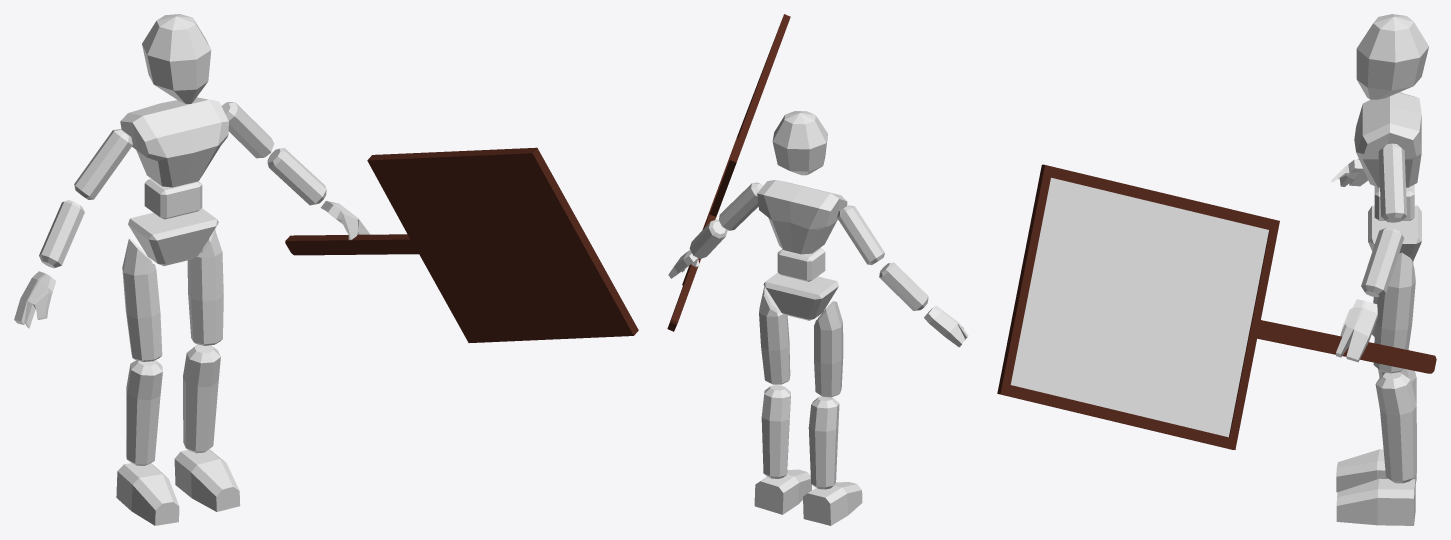
The model's file is sa transparentom (1).fbx.
The picture shows the model from 3 angles, left to right: view 1: azimuth 30°, elevation 25°; view 2: azimuth 150°, elevation 25°; view 3: azimuth 270°, elevation 25°; orthographic projection. The views are drawn at different scales.
Parts seen in each view (by area): view 1: Cube.012, Cube.020, Sphere.006, Cylinder.018, Cylinder.023, Cylinder.022, Cube.022, Cylinder.019, Cube.026, Cube.023, Cylinder.016, Cube.021 (+5 smaller); view 2: Cube.020, Sphere.006, Cube.012, Cylinder.019, Cylinder.018, Cylinder.023, Cube.022, Cylinder.022, Cube.023, Cube.026, Cylinder.016, Cube.021 (+5 smaller); view 3: Cube.012, Sphere.006, Cube.020, Cylinder.023, Cube.026, Cylinder.022, Cylinder.020, Cylinder.021, Cube.024, Cube.023, Cube.022, Cube.025 (+1 smaller).
Part boxes in pixels (box(x1,y1,x2,y2)): Cube.012: box(285, 147, 638, 342); Cube.020: box(120, 97, 228, 187); Sphere.006: box(142, 14, 211, 103); Cylinder.018: box(122, 238, 162, 361); Cylinder.023: box(183, 344, 220, 453); Cylinder.022: box(187, 229, 223, 345); Cube.022: box(128, 208, 218, 265); Cylinder.019: box(126, 360, 162, 465); Cube.026: box(174, 449, 240, 511); Cube.023: box(116, 463, 179, 525); Cylinder.016: box(74, 129, 132, 199); Cube.021: box(144, 178, 202, 219); Cube.020: box(757, 180, 847, 254); Sphere.006: box(772, 111, 827, 175); Cube.012: box(667, 14, 790, 331); Cylinder.019: box(808, 396, 839, 489); Cylinder.018: box(814, 301, 843, 397); Cylinder.023: box(761, 385, 790, 478); Cube.022: box(763, 272, 838, 320); Cylinder.022: box(759, 286, 790, 384); Cube.023: box(803, 482, 862, 525); Cube.026: box(754, 469, 811, 514); Cylinder.016: box(837, 205, 884, 265); Cube.021: box(777, 248, 825, 281); Cube.012: box(997, 164, 1436, 449); Sphere.006: box(1356, 14, 1428, 99); Cube.020: box(1354, 92, 1421, 187); Cylinder.023: box(1375, 372, 1416, 483); Cube.026: box(1336, 478, 1415, 525); Cylinder.022: box(1373, 252, 1415, 373); Cylinder.020: box(1378, 143, 1406, 222); Cylinder.021: box(1361, 227, 1404, 297); Cube.024: box(1336, 299, 1377, 362); Cube.023: box(1336, 449, 1416, 492); Cube.022: box(1368, 205, 1421, 261); Cube.025: box(1331, 159, 1368, 186).
Size of the model in its own units: 631 by 644 by 525.
